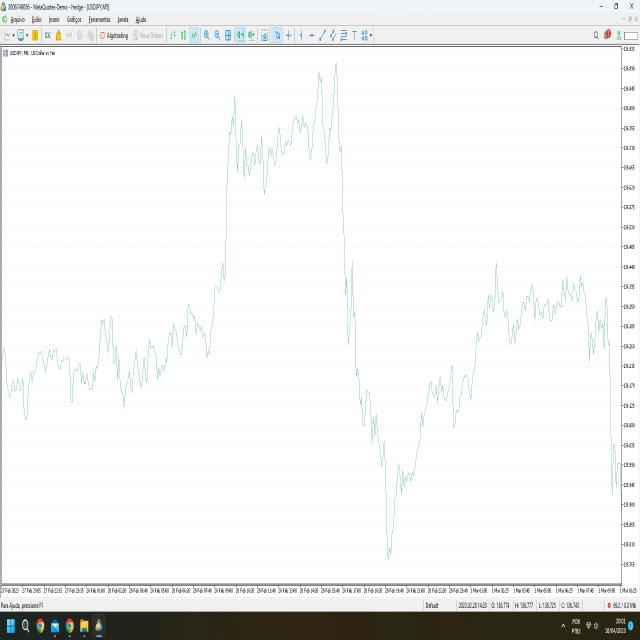bandeira_alta: (409, 346, 456, 484)
bandeira_baixa: (604, 303, 623, 501)
oco_inv: (368, 434, 436, 578)
topo_duplo: (311, 54, 347, 195)
